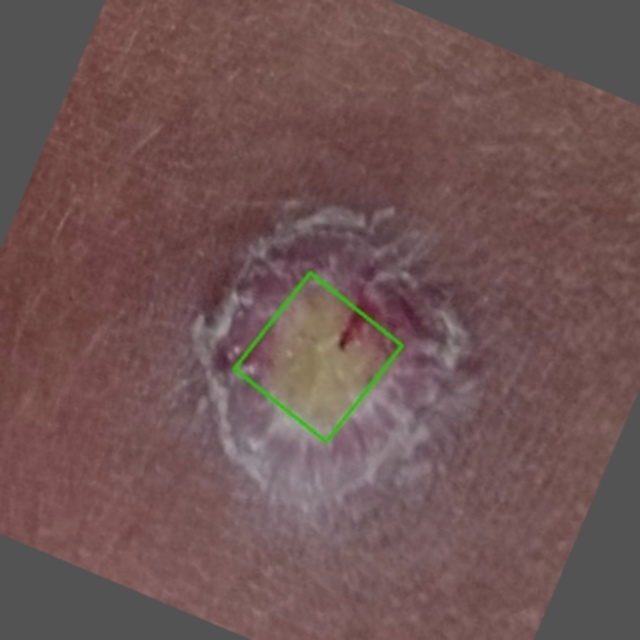Scabies: (235, 272, 403, 441)
